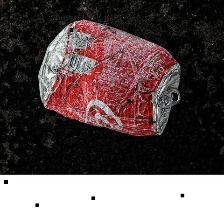can: (35, 13, 189, 143)
